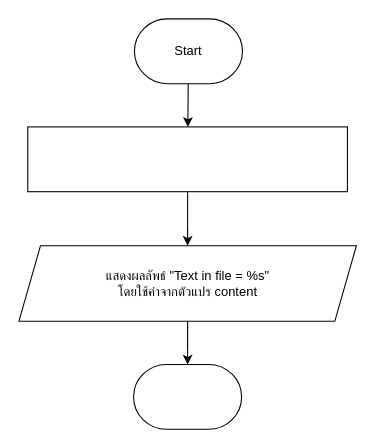
The diagram is 376 pixels wide and 448 high, and some of its shapes have lost their labels. Each missing label, with the box of its shape:
End: (133, 363, 242, 429)
อ่านข้อมูลจากไฟล์ "a.txt" เก็บลงในตัวแปร content: (27, 126, 347, 192)
